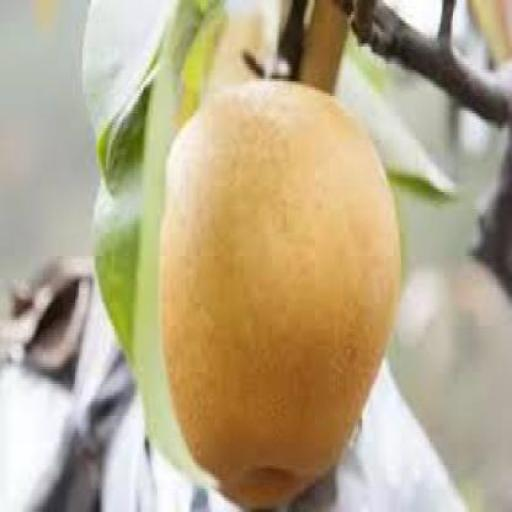biodegradable: (158, 72, 398, 510)
